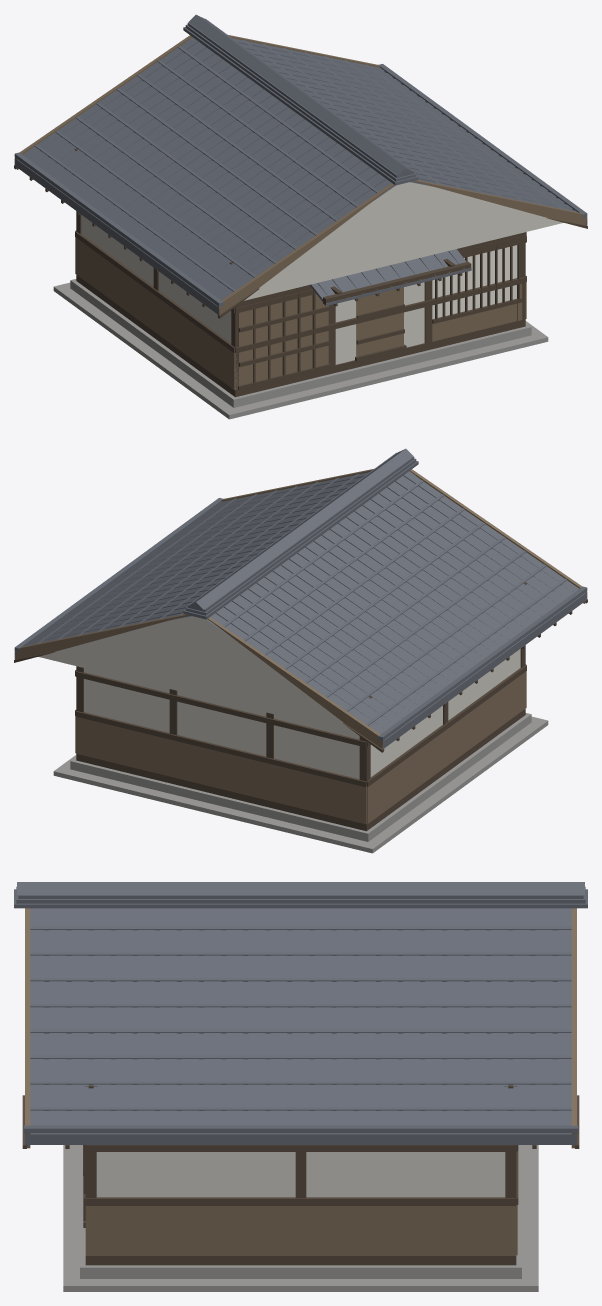
Rendered from machiya_pilot_silhouette_gable_01.glb.
The picture shows the model from 3 angles, top to bottom: view 1: azimuth 30°, elevation 25°; view 2: azimuth 150°, elevation 25°; view 3: azimuth 270°, elevation 25°; orthographic projection. The views are drawn at different scales.
Parts seen in each view (by area): view 1: machiya_pilot_silhouette_gable_01; view 2: machiya_pilot_silhouette_gable_01; view 3: machiya_pilot_silhouette_gable_01.
Boxes of the visible parts, left/top/right/bottom form: machiya_pilot_silhouette_gable_01: left=14, top=14, right=587, bottom=419; machiya_pilot_silhouette_gable_01: left=14, top=448, right=587, bottom=853; machiya_pilot_silhouette_gable_01: left=14, top=882, right=587, bottom=1291.
Bounding box in the file's own units: 7.94 × 4.64 × 7.92.
